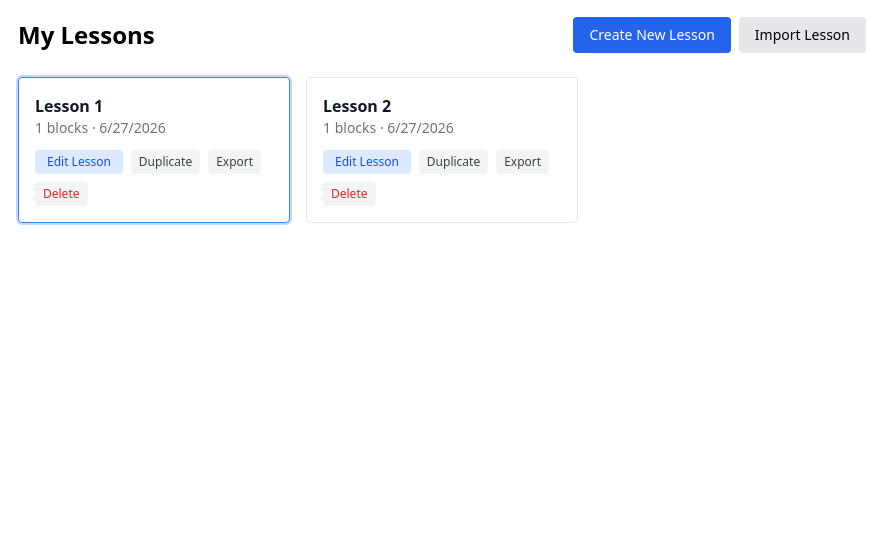
Test: App › multi-lesson flow › navigates planner back to library
Expected: the heading "My Lessons" is shown, [18, 19, 155, 51]
Click the button "Edit Lesson" below "Lesson 1" at (79, 162), box [35, 150, 123, 174]
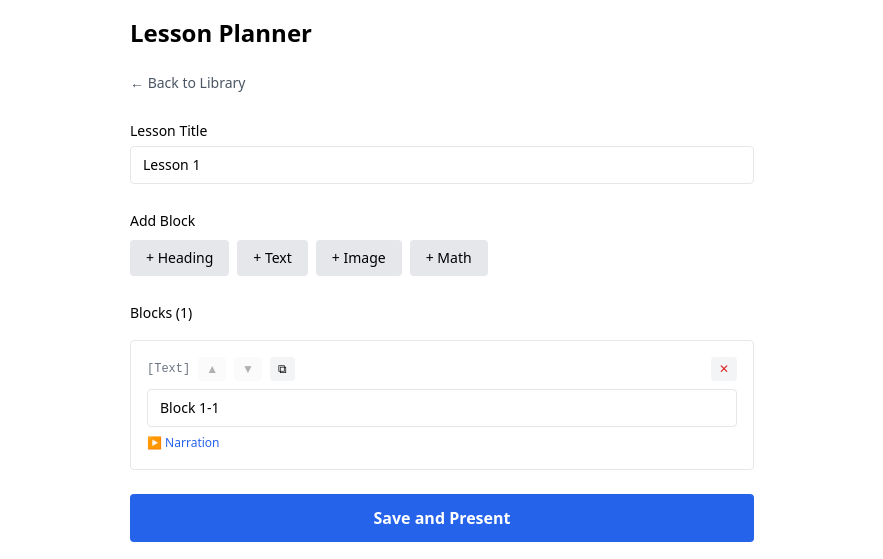
Expected: the heading "Lesson Planner" is shown, [130, 16, 312, 49]
Click the button "← Back to Library" at (188, 83), box [130, 73, 245, 93]
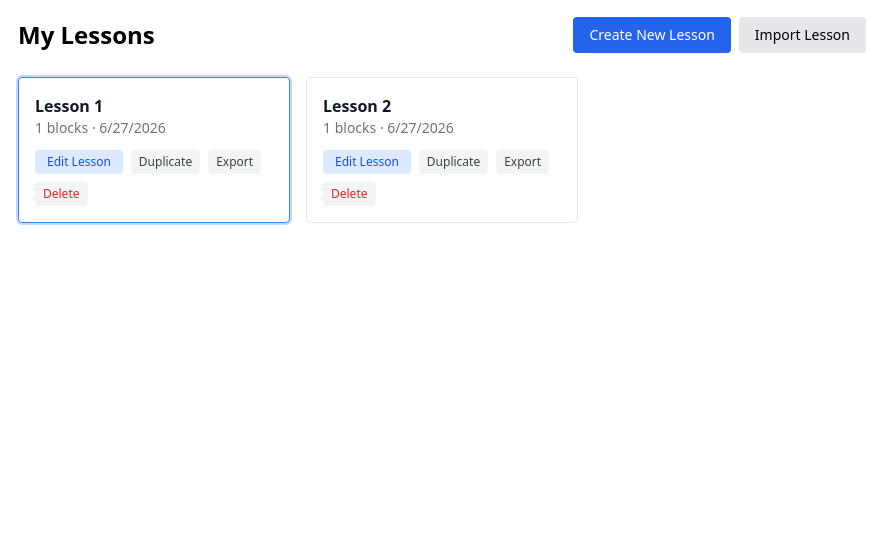
Expected: the heading "My Lessons" is shown, [18, 19, 155, 51]
